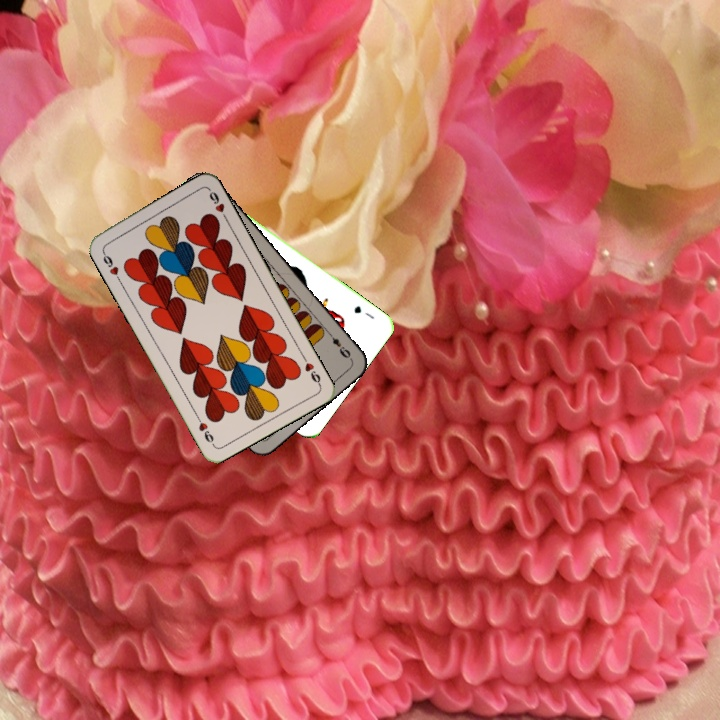E9: (324, 328, 353, 361)
GU: (350, 301, 377, 322)
H9: (297, 351, 323, 388), (98, 247, 123, 284)
